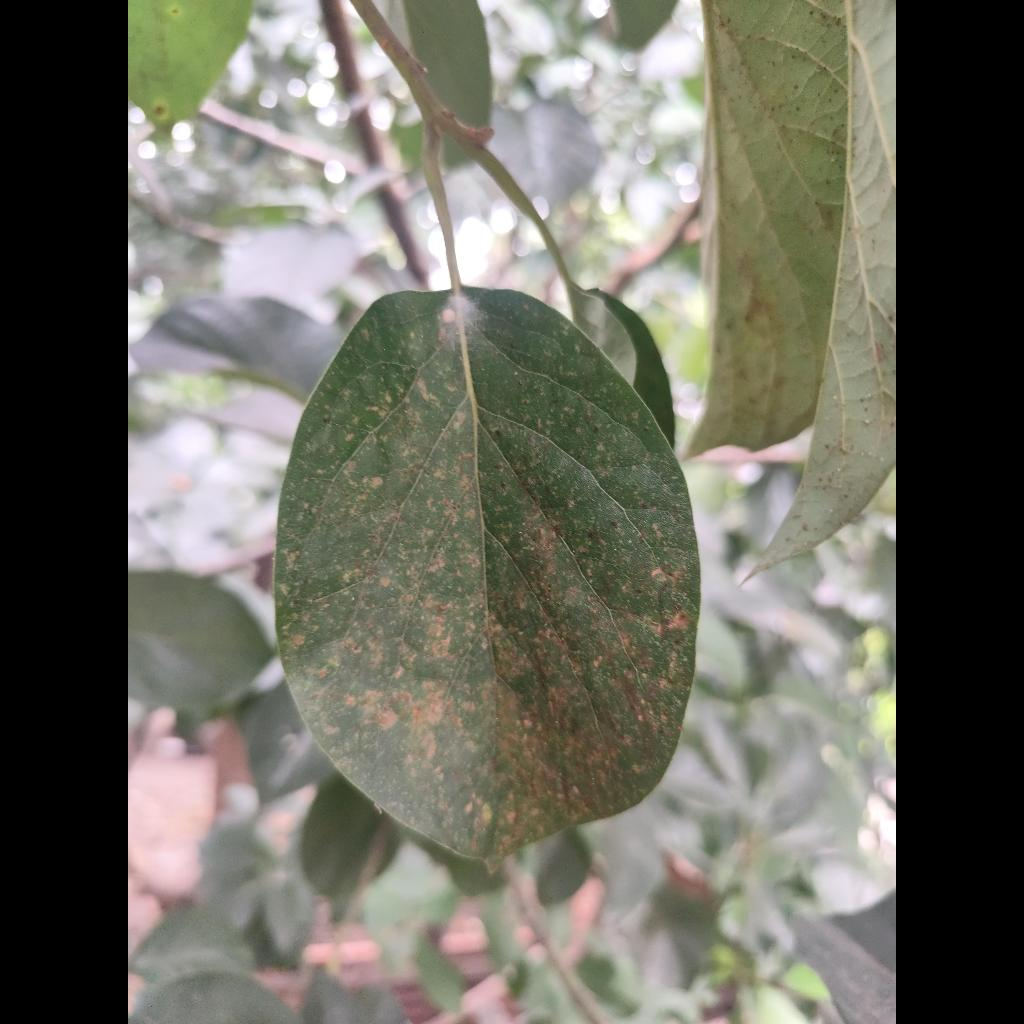Anthracnose: (274, 288, 699, 864)
